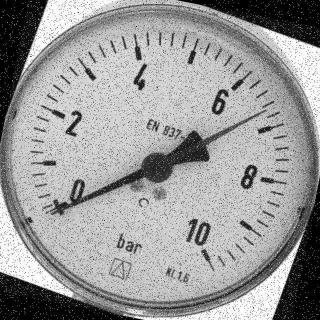gauge: (0, 0, 320, 320), (182, 232, 230, 277), (47, 181, 85, 226), (137, 148, 177, 187), (45, 203, 64, 222), (257, 104, 273, 118)
